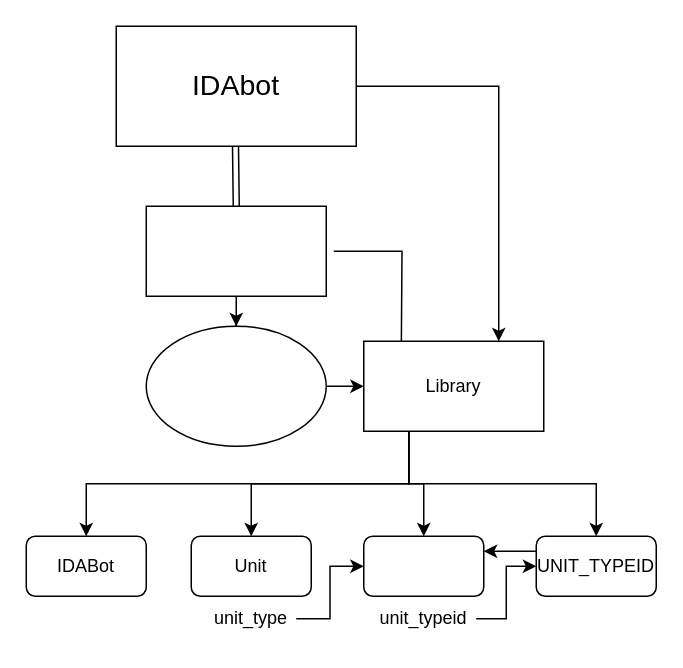
The diagram is 683 pixels wide and 668 high, and some of its shapes have lost their labels. Each missing label, with the box of its shape:
Bot: (145, 325, 326, 446)
MyAgent: (145, 205, 326, 296)
UnitType: (362, 535, 484, 596)
